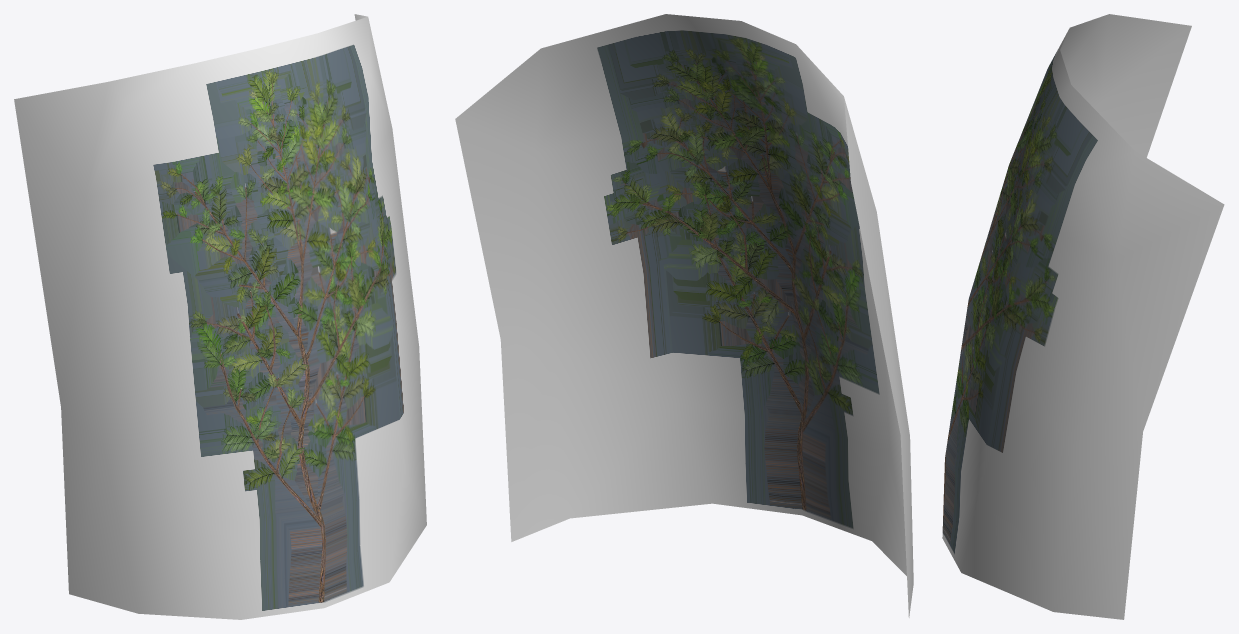
File: BaseFoliageMesh2.FBX
The picture shows the model from 3 angles, left to right: view 1: azimuth 30°, elevation 25°; view 2: azimuth 150°, elevation 25°; view 3: azimuth 270°, elevation 25°; orthographic projection. The views are drawn at different scales.
Parts seen in each view (by area): view 1: Plane001; view 2: Plane001; view 3: Plane001.
Boxes of the visible parts, x1,y1,x2,y2 form: Plane001: [14, 14, 426, 619]; Plane001: [455, 14, 913, 617]; Plane001: [942, 14, 1224, 619].
Size of the model in its own units: 90.11 by 124 by 65.17.
1 material, 1 textured.
